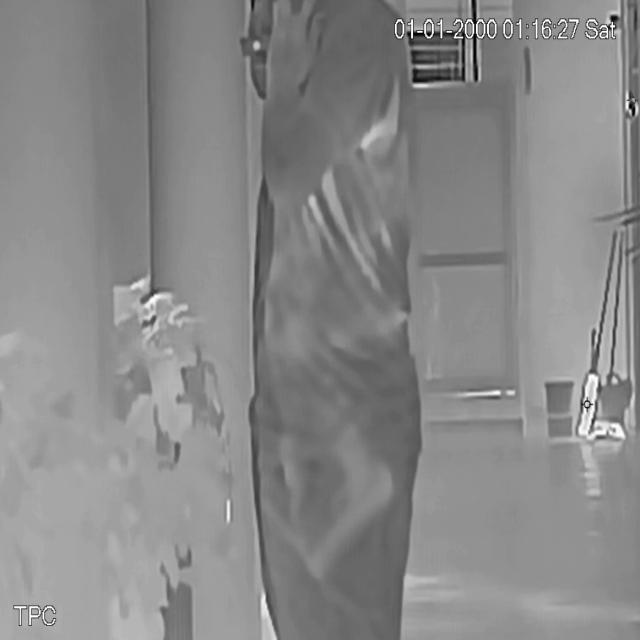Weapon: (292, 407, 421, 589)
